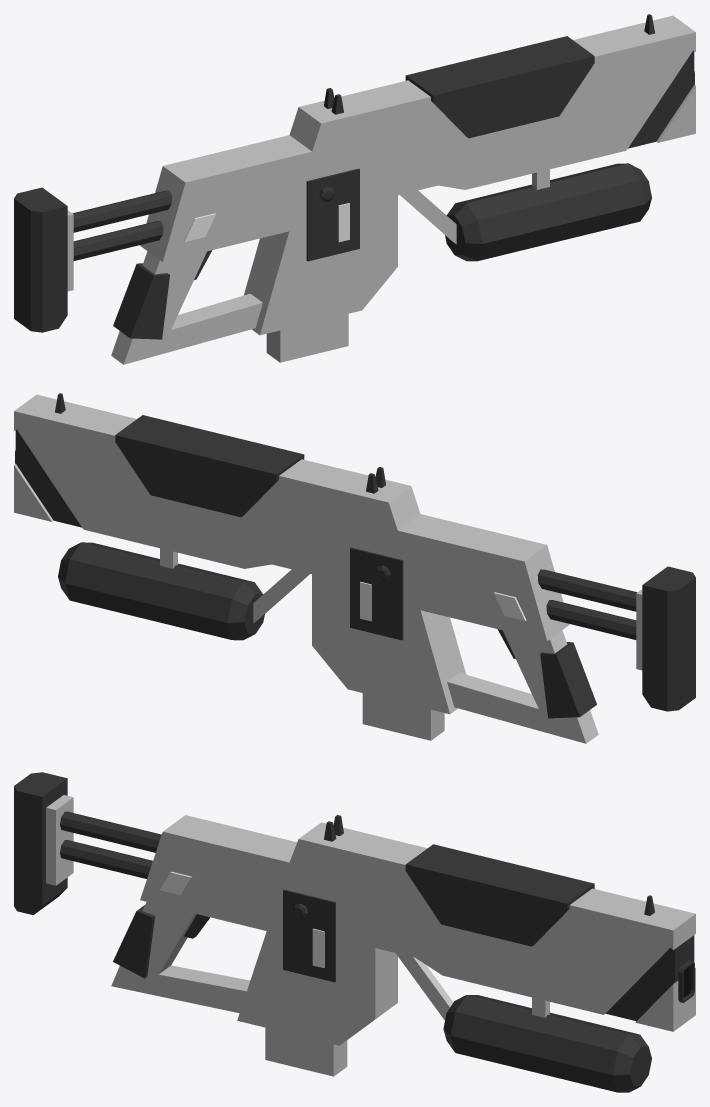
The model's file is Rifle_H_V4.FBX.
3 views of the same model, one above another, from view 1: azimuth 30°, elevation 25°; view 2: azimuth 150°, elevation 25°; view 3: azimuth 330°, elevation 25° (orthographic).
Visible parts, largest first — view 1: Rifle_H_V4, Magazine; view 2: Rifle_H_V4, Magazine; view 3: Rifle_H_V4, Magazine.
Boxes of the visible parts, x1,y1,x2,y2 form: Rifle_H_V4: (14,14,695,364); Magazine: (266,314,348,362); Rifle_H_V4: (14,393,695,743); Magazine: (362,693,444,740); Rifle_H_V4: (14,772,695,1092); Magazine: (265,1027,347,1076).
Size of the model in its own units: 393 by 141 by 32.87.
